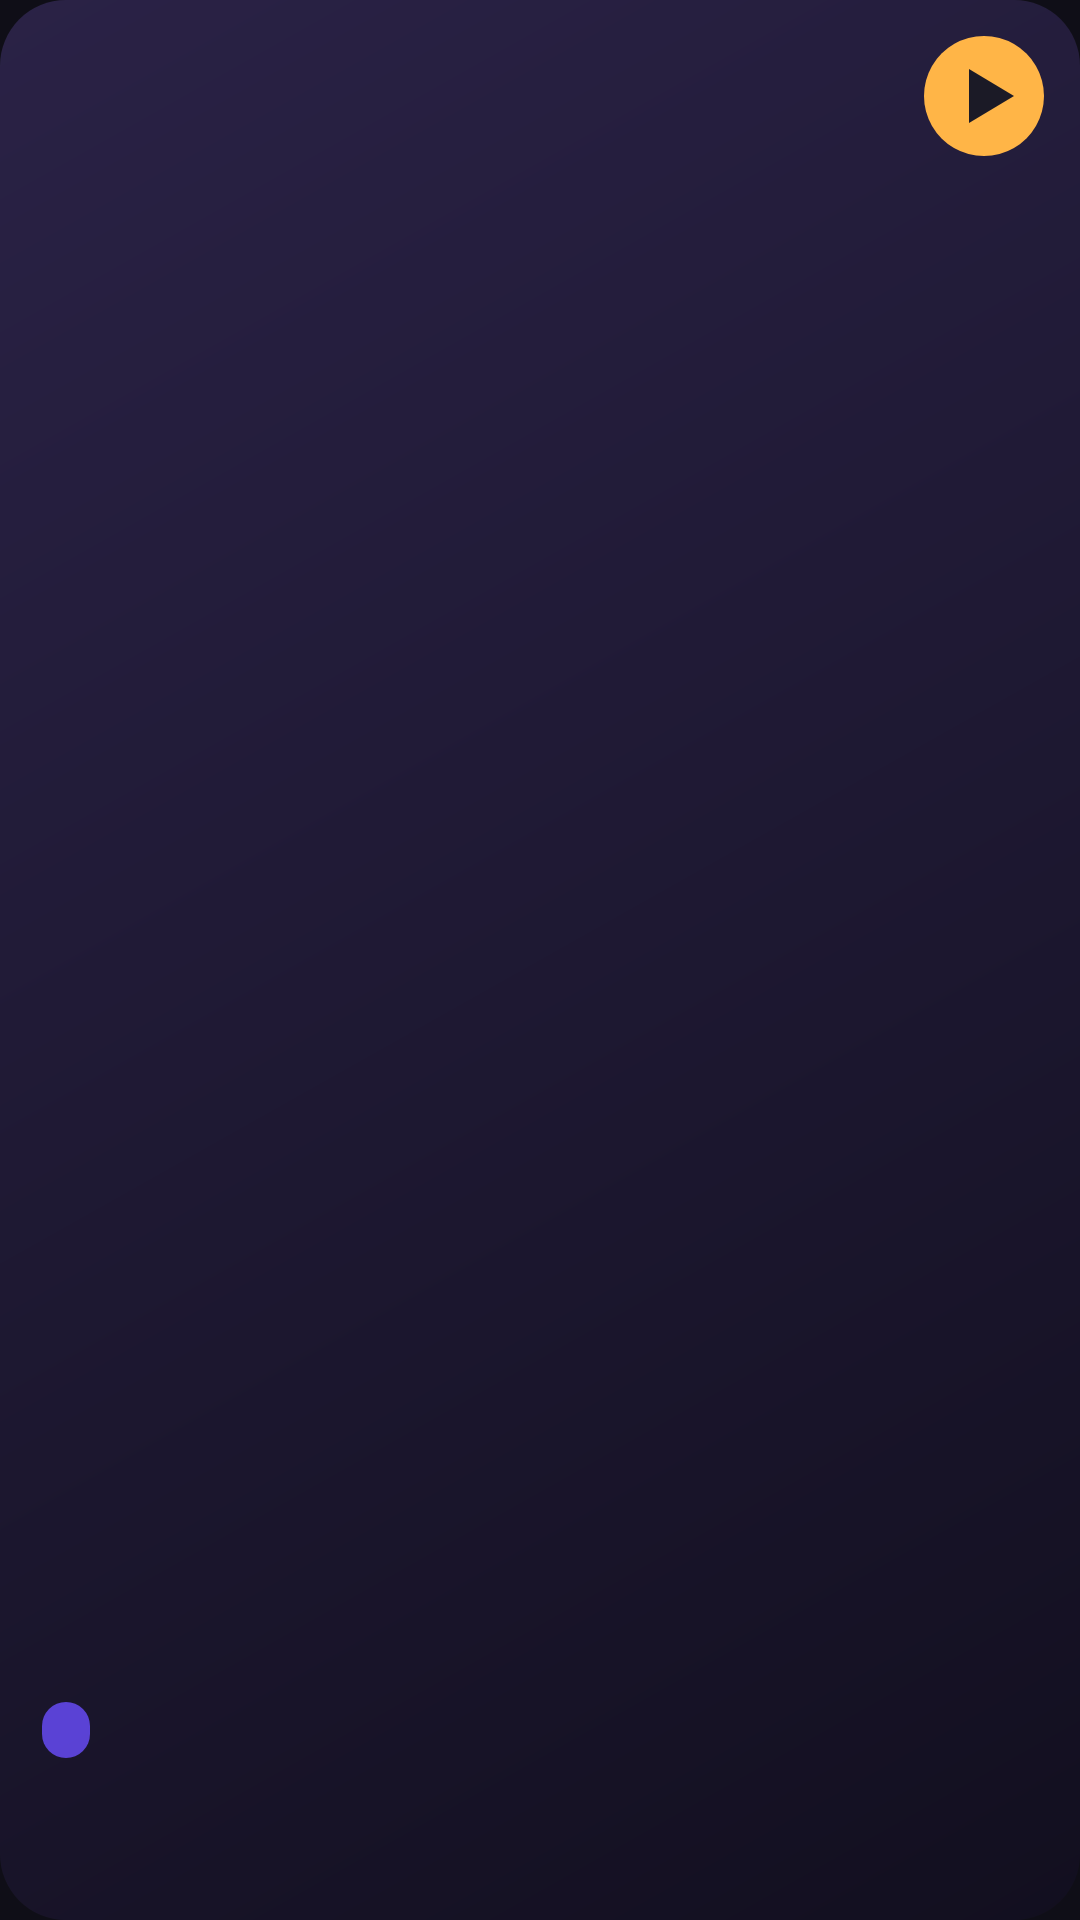

Where to tap for icons on this 1080 x 1920 app screen, as (x=x, y=y):
Continuar: (x=984, y=96)
